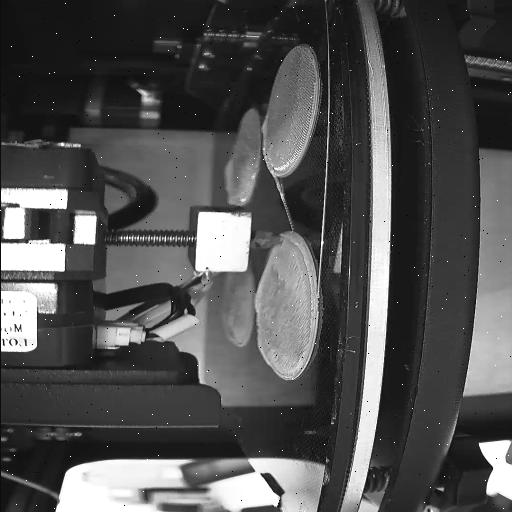over_extrusion: (250, 248, 278, 314), (218, 159, 240, 206), (280, 230, 306, 255), (259, 118, 269, 140), (230, 340, 250, 348)
